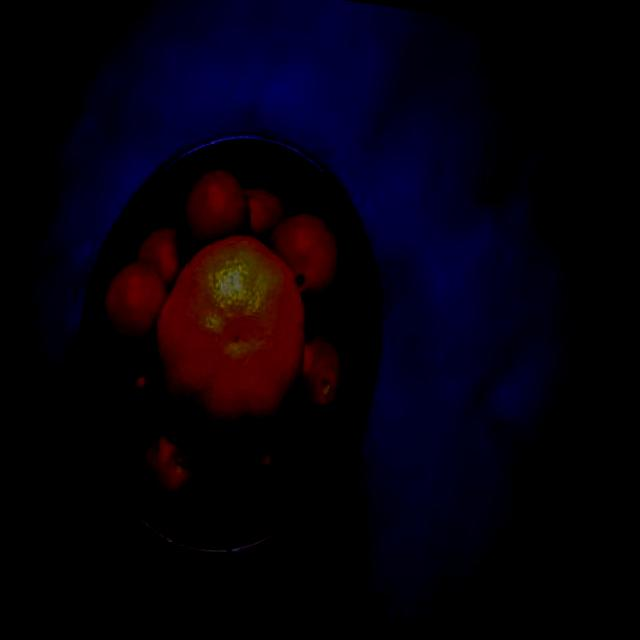Apple: (258, 208, 352, 332), (125, 420, 217, 526), (88, 256, 170, 366), (208, 428, 294, 526), (281, 329, 354, 443), (175, 162, 259, 260), (96, 358, 161, 451), (124, 215, 193, 293), (240, 182, 291, 238)
Orange: (140, 224, 320, 462)
